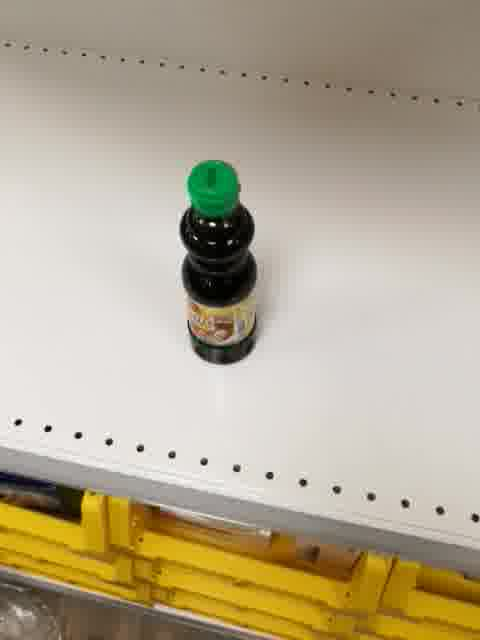cookingoil: (175, 158, 261, 366)
